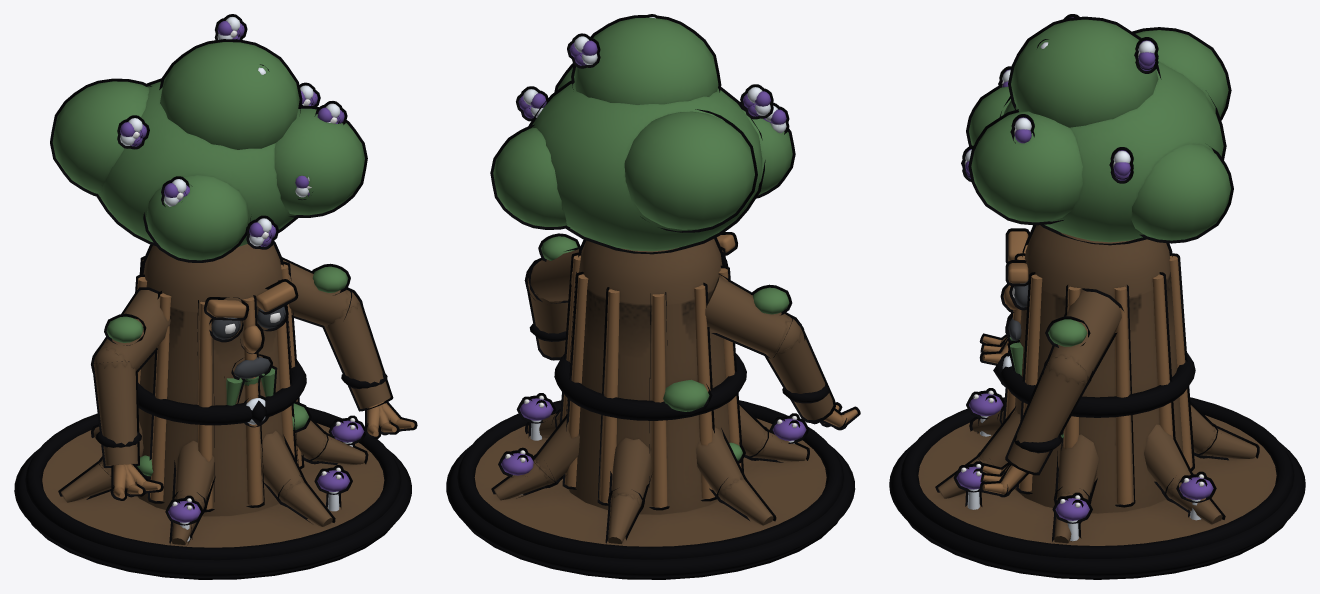
Rendered from treant_guard_s3.fbx.
3 renders of one model, left to right at view 1: azimuth 30°, elevation 25°; view 2: azimuth 150°, elevation 25°; view 3: azimuth 270°, elevation 25°, orthographic. The views are drawn at different scales.
Parts seen in each view (by area): view 1: treant_guard_s3; view 2: treant_guard_s3; view 3: treant_guard_s3.
Boxes of the visible parts, x1,y1,x2,y2 form: treant_guard_s3: [14, 14, 417, 579]; treant_guard_s3: [446, 14, 860, 579]; treant_guard_s3: [889, 14, 1305, 579].
Size of the model in its own units: 1.68 by 2.13 by 1.68.
2 materials, 1 textured.
